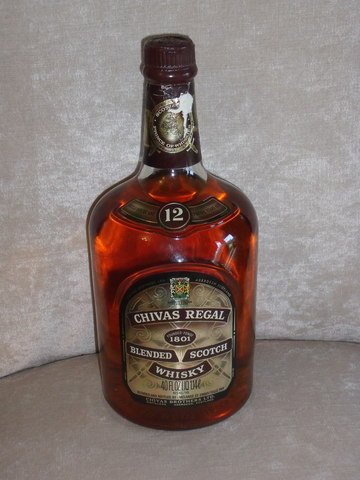Chivas Regal: (82, 31, 263, 434)
